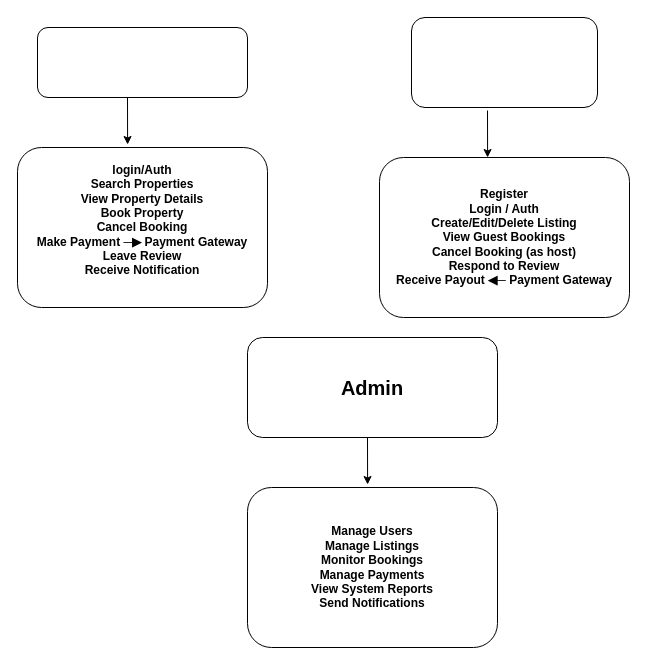
Some shapes in this 647 by 665 pixel diagram are drawn without their labels. The box of each missing label's shape, as (x1, y1, x2, y2) in pixels:
Guest: (36, 26, 248, 98)
Host: (410, 16, 598, 108)
